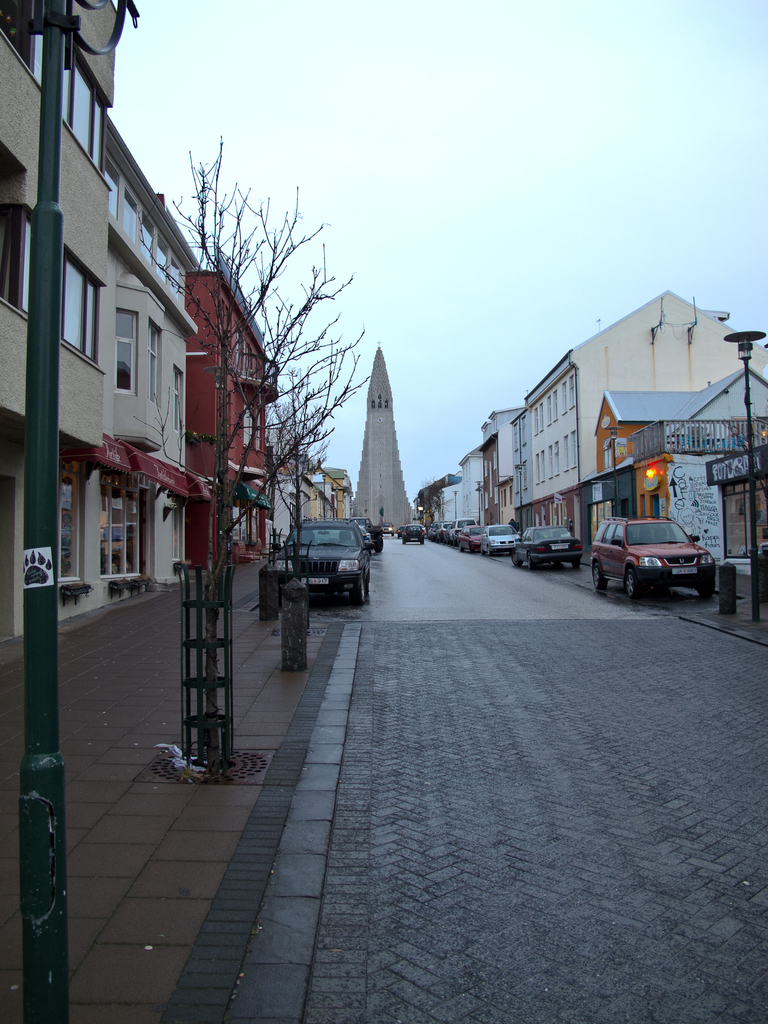Car: (598, 511, 735, 594), (273, 511, 371, 602), (399, 518, 512, 558), (504, 523, 577, 570)
